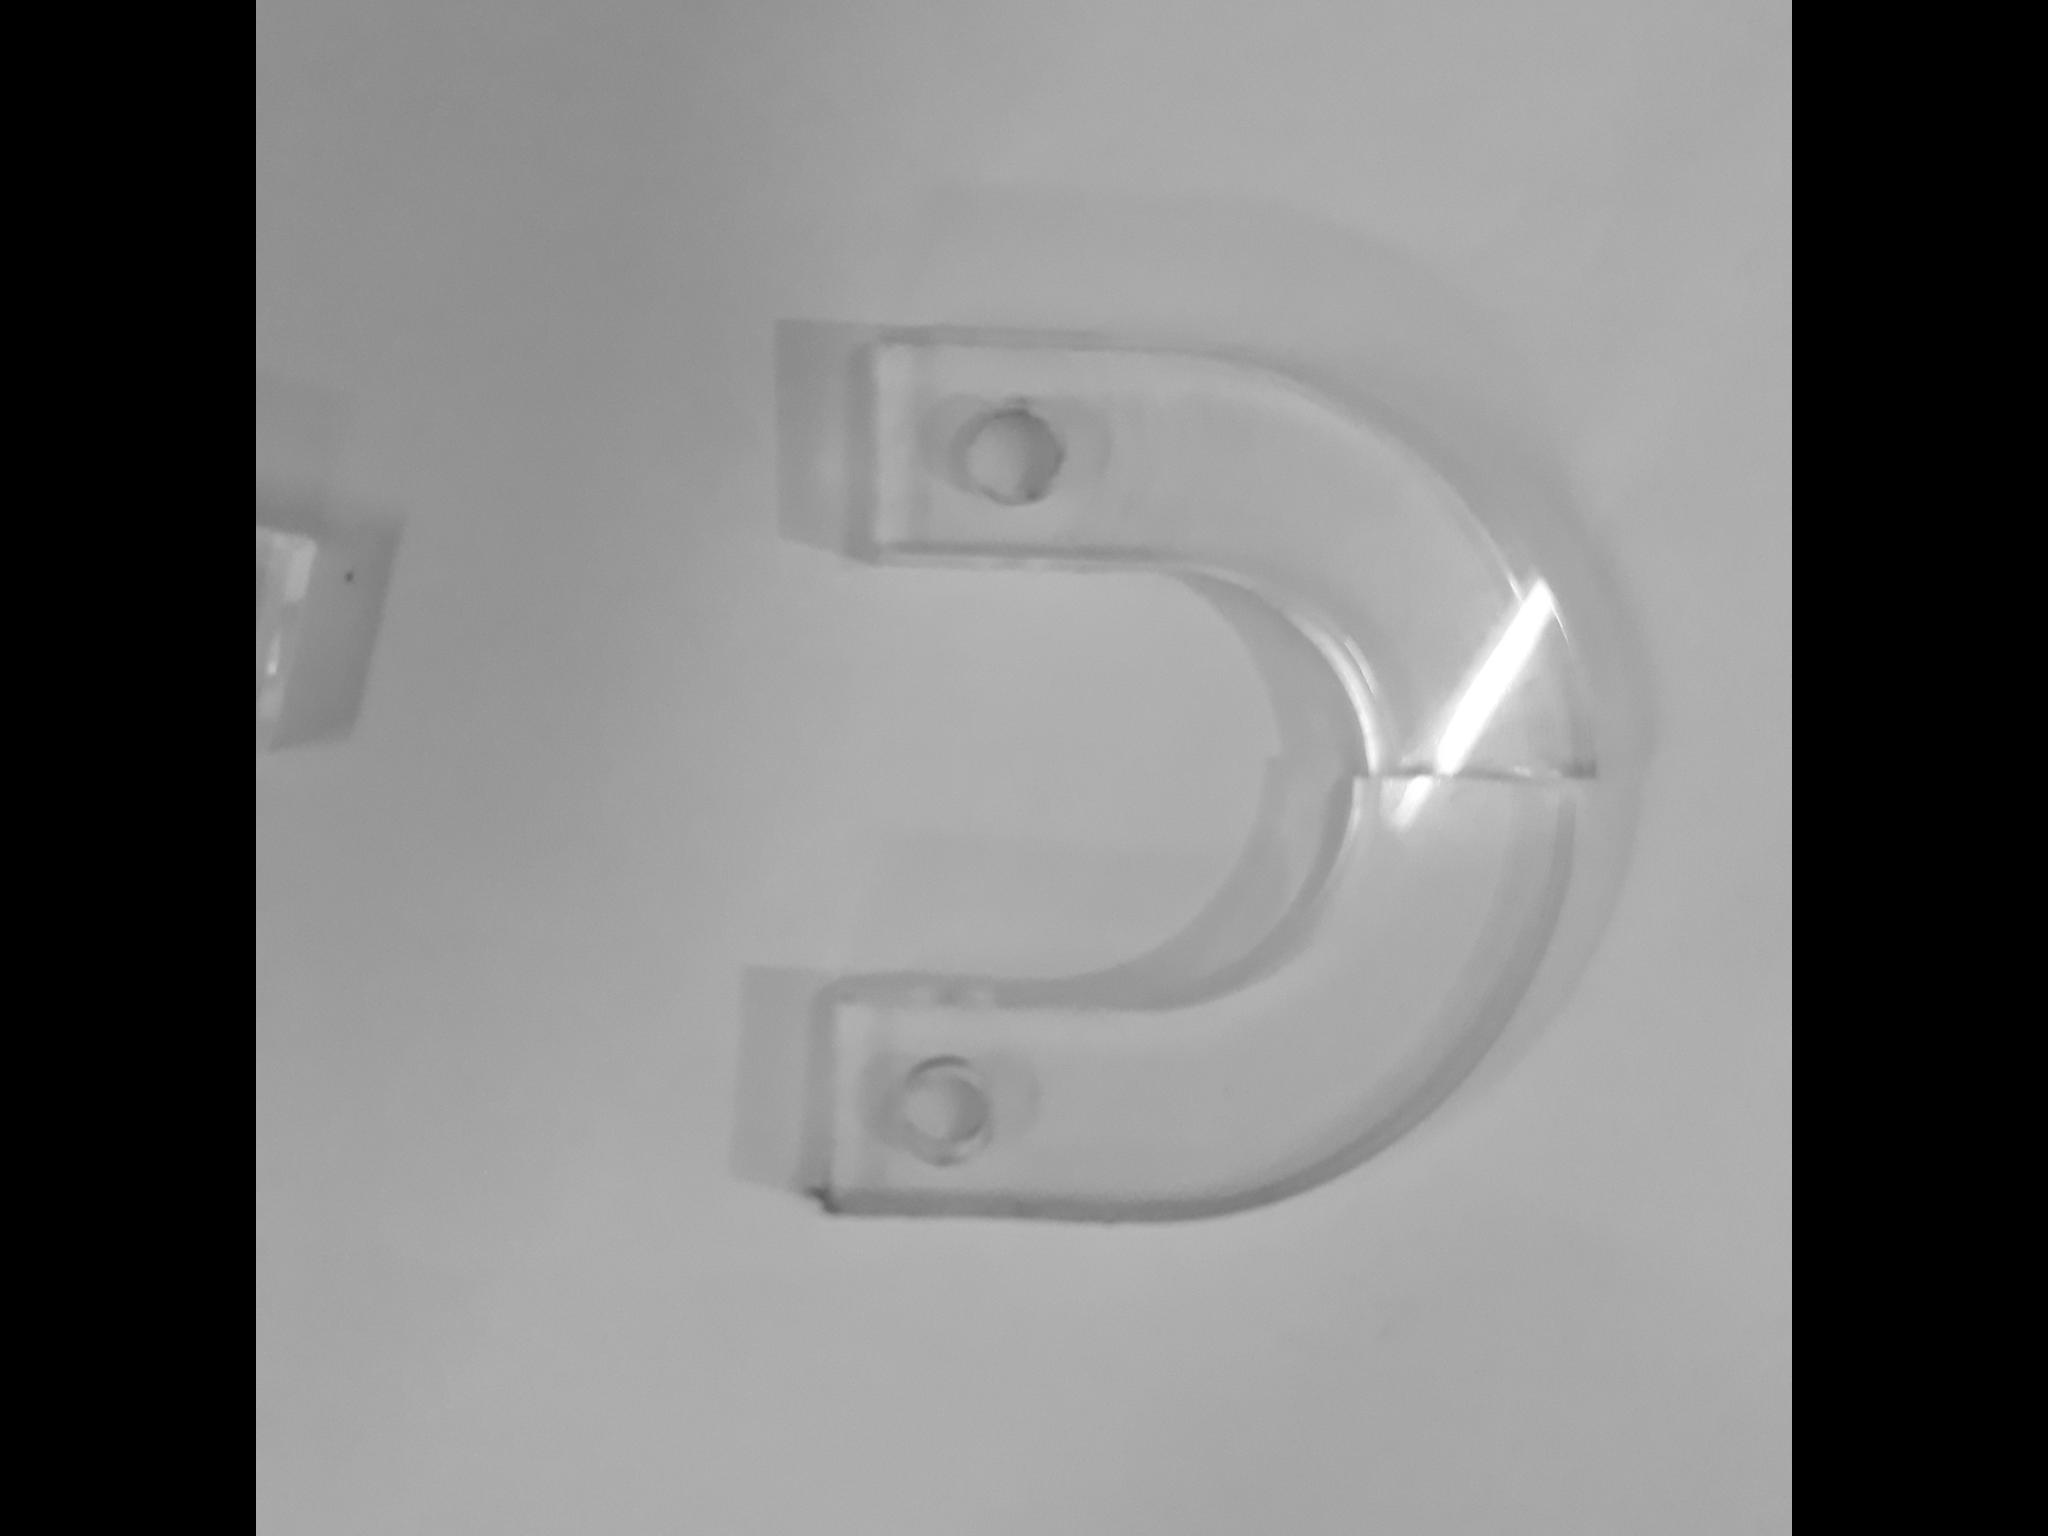Shape_180: (830, 800, 1713, 1536)
